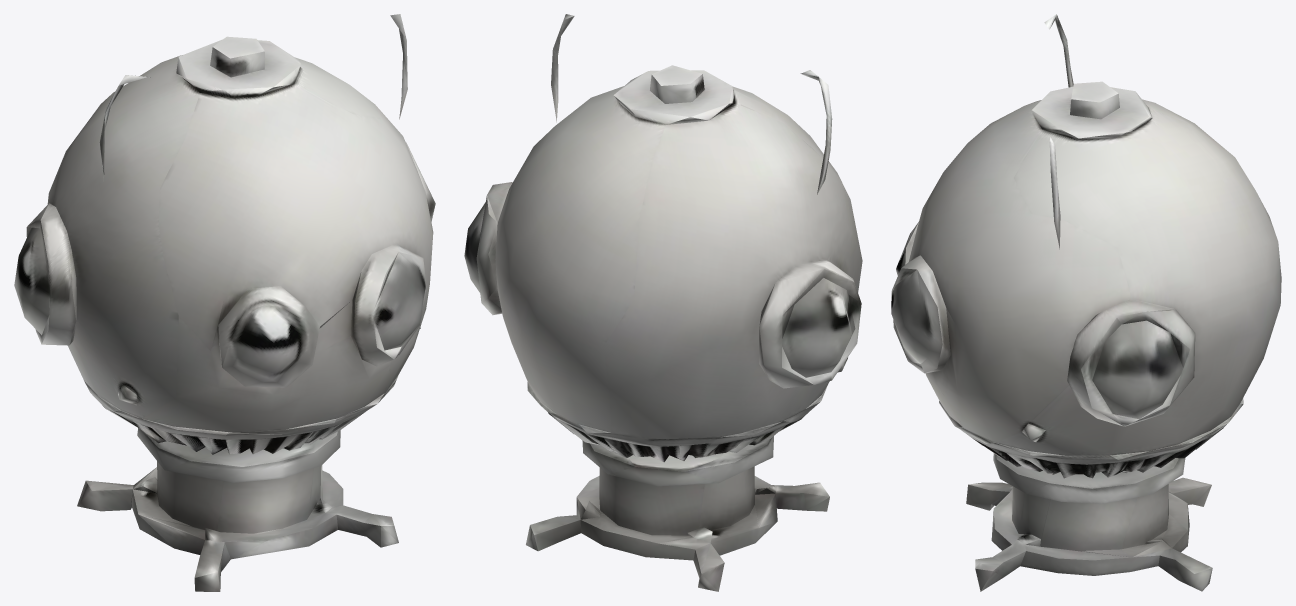
File: robotHeadAntenna.glb
The picture shows the model from 3 angles, left to right: view 1: azimuth 30°, elevation 25°; view 2: azimuth 150°, elevation 25°; view 3: azimuth 270°, elevation 25°; orthographic projection. The views are drawn at different scales.
Parts seen in each view (by area): view 1: model; view 2: model; view 3: model.
Boxes of the visible parts, box(x1,y1,x2,y2) form: model: box(14, 14, 435, 591); model: box(464, 14, 862, 591); model: box(891, 14, 1281, 591).
Size of the model in its own units: 1.58 by 1.89 by 1.42.
Materials: 1 (1 with a texture image).
